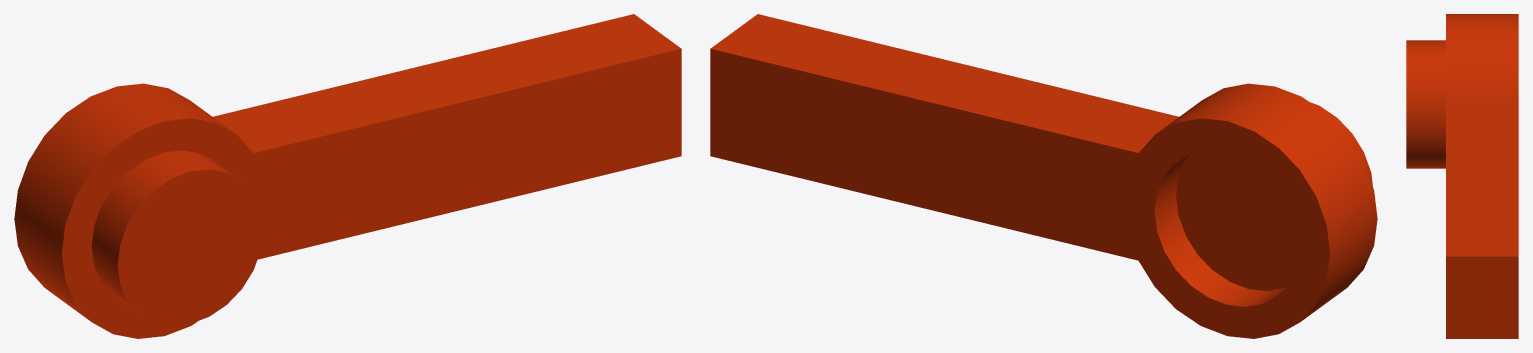
The model's file is hinge_part_a.obj.
3 renders of one model, left to right at view 1: azimuth 30°, elevation 25°; view 2: azimuth 150°, elevation 25°; view 3: azimuth 270°, elevation 25°, orthographic. The views are drawn at different scales.
Parts seen in each view (by area): view 1: hinge_part_a_Circle; view 2: hinge_part_a_Circle; view 3: hinge_part_a_Circle.
Part boxes in pixels (box(x1,y1,x2,y2)): hinge_part_a_Circle: box(14, 14, 681, 338); hinge_part_a_Circle: box(710, 14, 1377, 338); hinge_part_a_Circle: box(1406, 14, 1518, 338).
Bounding box in the file's own units: 0.6033 × 0.2 × 0.1238.
